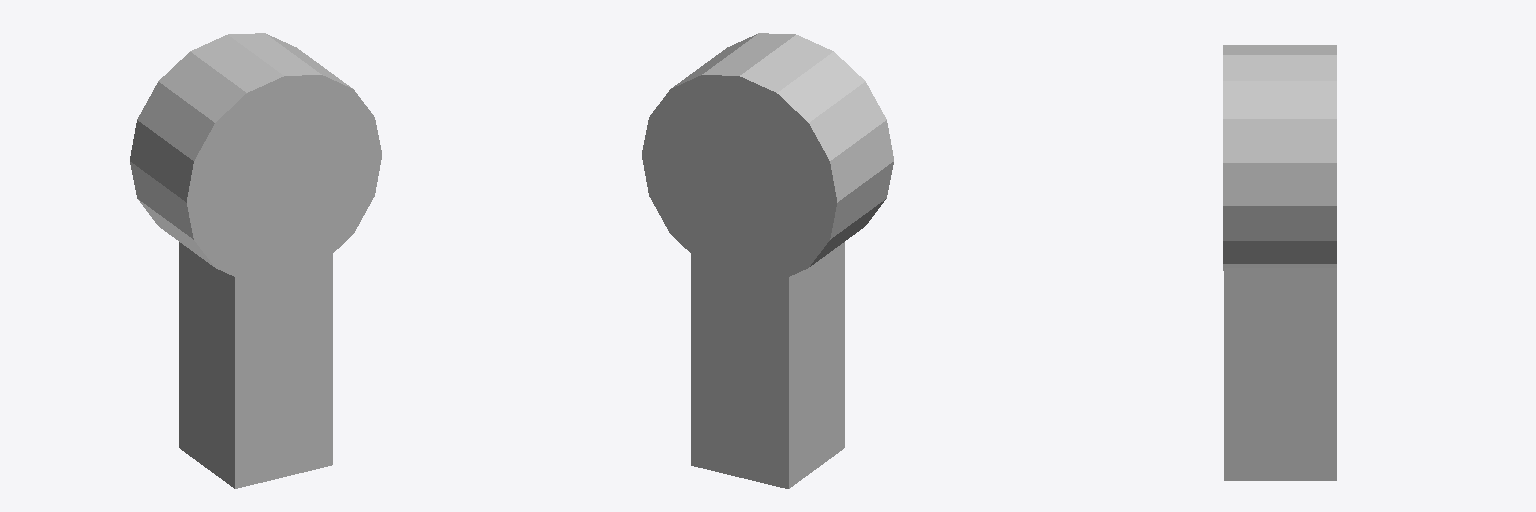
Rendered from receptor-circle.obj.
3 views of the same model, side by side, from view 1: azimuth 30°, elevation 25°; view 2: azimuth 150°, elevation 25°; view 3: azimuth 270°, elevation 25° (orthographic).
Visible parts, largest first — view 1: circle2_Cube.007; view 2: circle2_Cube.007; view 3: circle2_Cube.007.
Part boxes in pixels (x1,y1,x2,y2): circle2_Cube.007: (130,33,381,488); circle2_Cube.007: (642,33,893,488); circle2_Cube.007: (1223,45,1336,480).
Size of the model in its own units: 4 by 7.83 by 2.01.